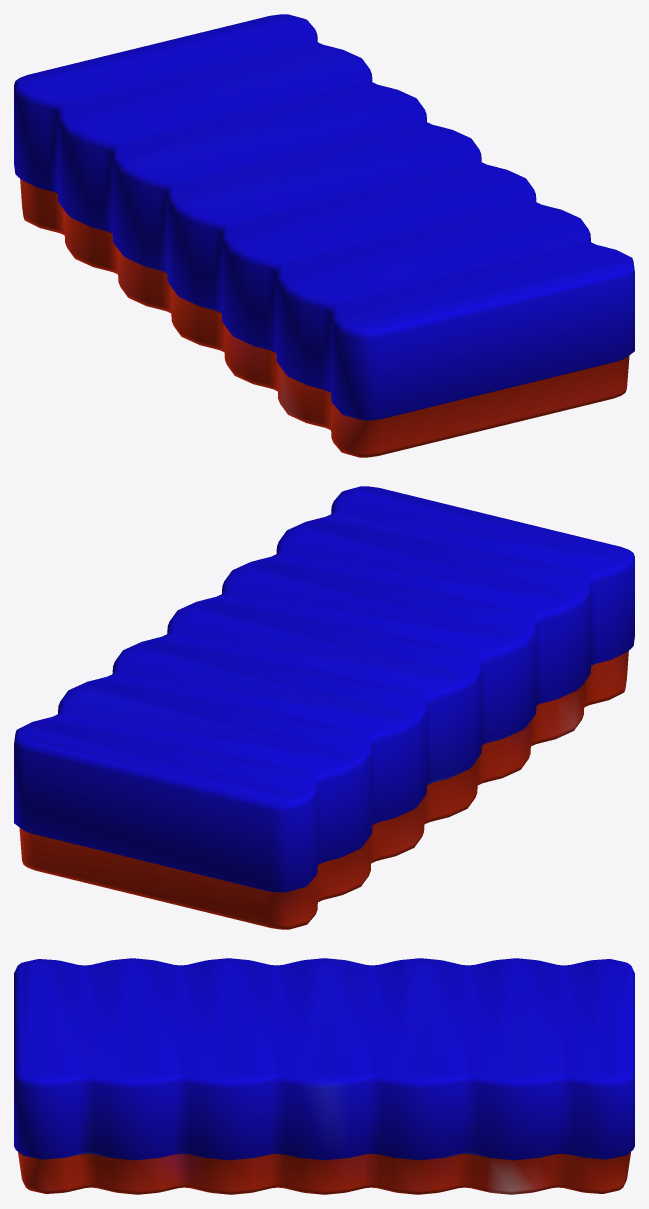
Rendered from board_eraser_T.fbx.
The picture shows the model from 3 angles, top to bottom: view 1: azimuth 30°, elevation 25°; view 2: azimuth 150°, elevation 25°; view 3: azimuth 270°, elevation 25°; orthographic projection. The views are drawn at different scales.
Parts seen in each view (by area): view 1: Board_eraser; view 2: Board_eraser; view 3: Board_eraser.
Part boxes in pixels (x1,y1,x2,y2): Board_eraser: (14,14,634,457); Board_eraser: (14,486,634,929); Board_eraser: (14,958,634,1194).
Size of the model in its own units: 9.42 by 4 by 19.48.
